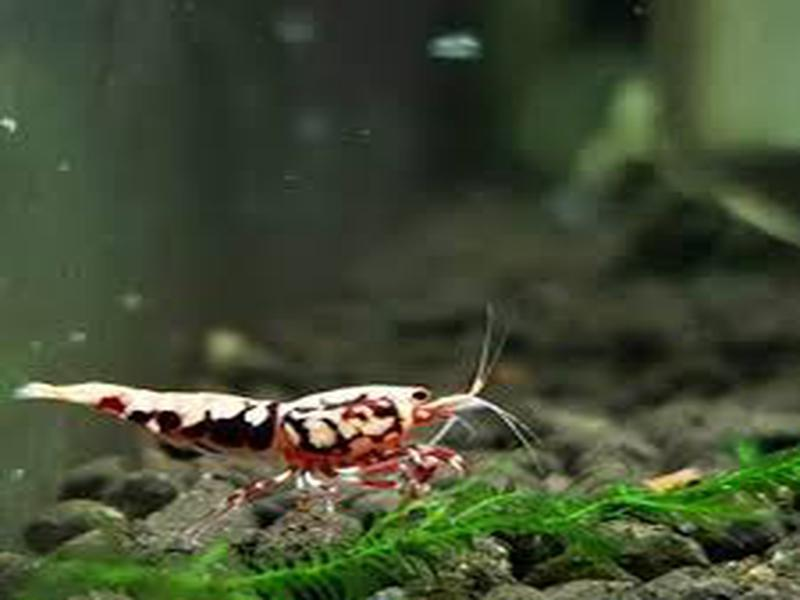shrimp: (1, 376, 472, 486)
